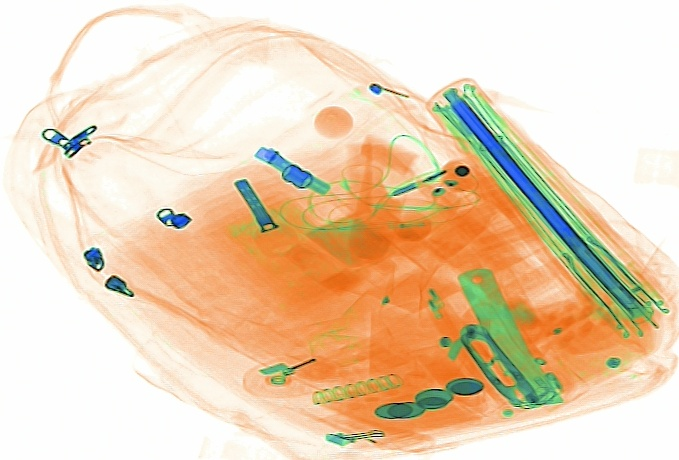knife: (455, 265, 564, 406)
